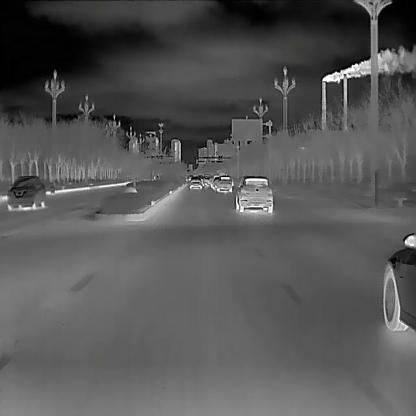car: (382, 234, 416, 332), (235, 174, 273, 214), (7, 174, 44, 208), (216, 174, 232, 192), (188, 175, 204, 189)
